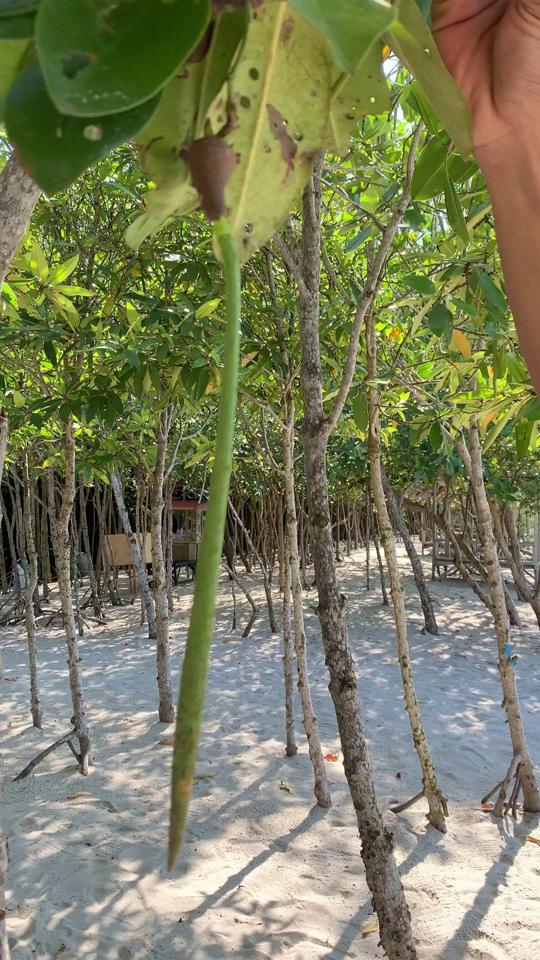setengah matang: (152, 114, 259, 888)
